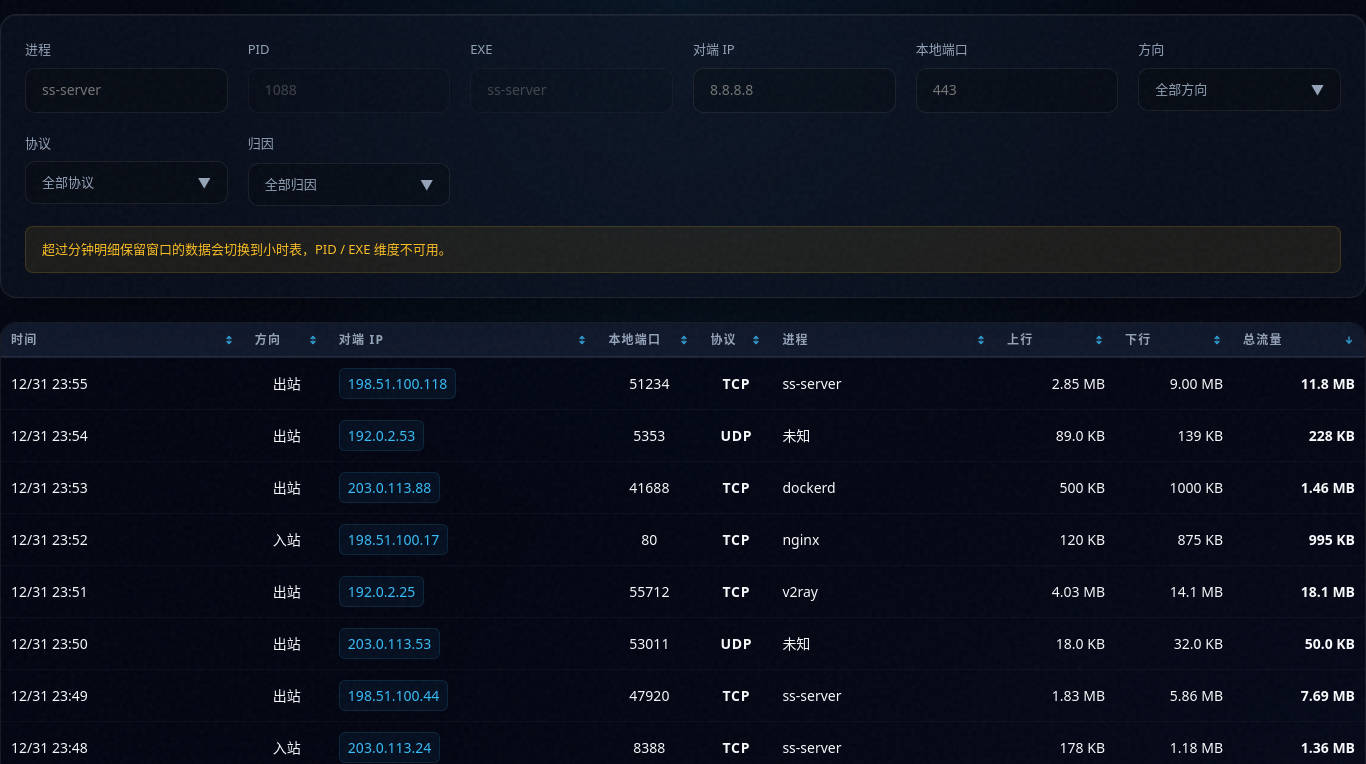
traffic-go web ui › replays persisted chain analysis for hourly usage rows
(page scrolled)
Click the row named "展开详情" at (683, 384), box [1, 358, 1365, 410]
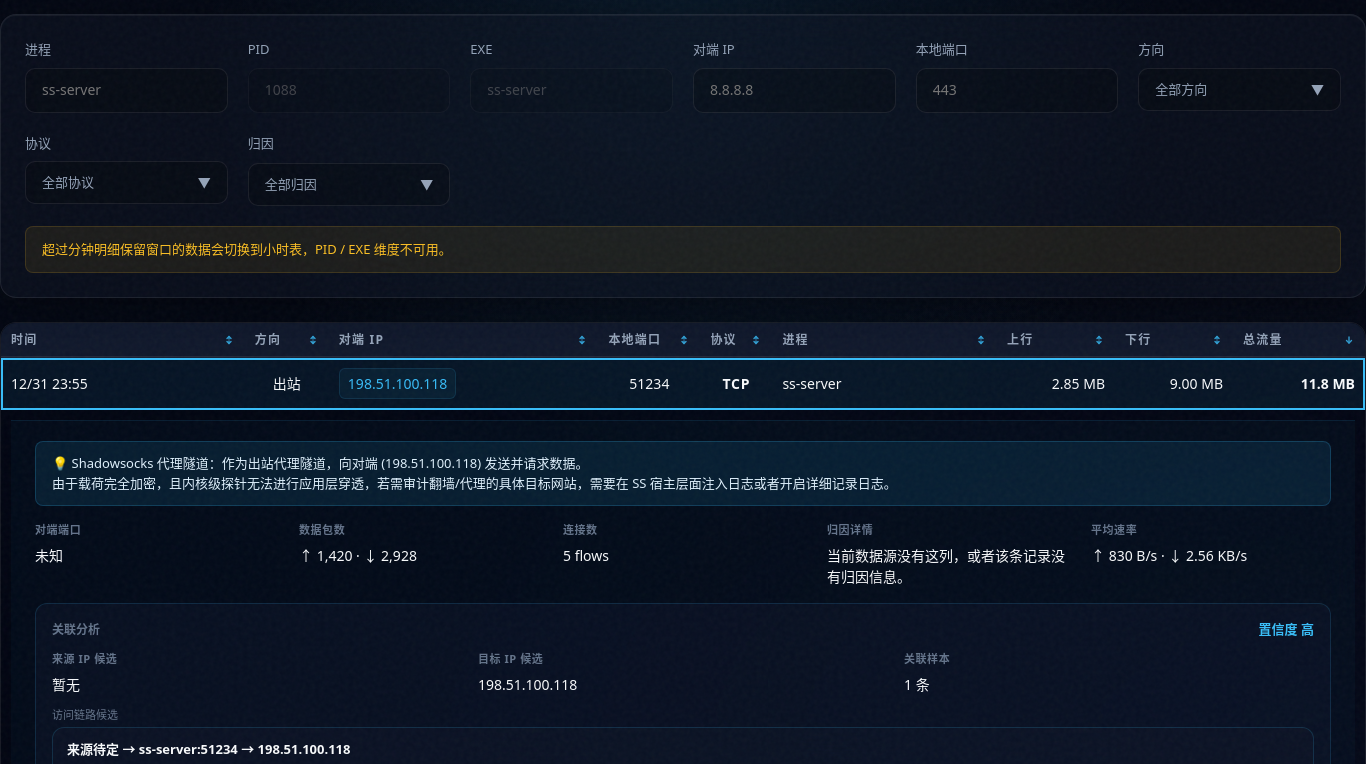
Result: the text "访问链路候选" is shown at [52, 707, 118, 722]
